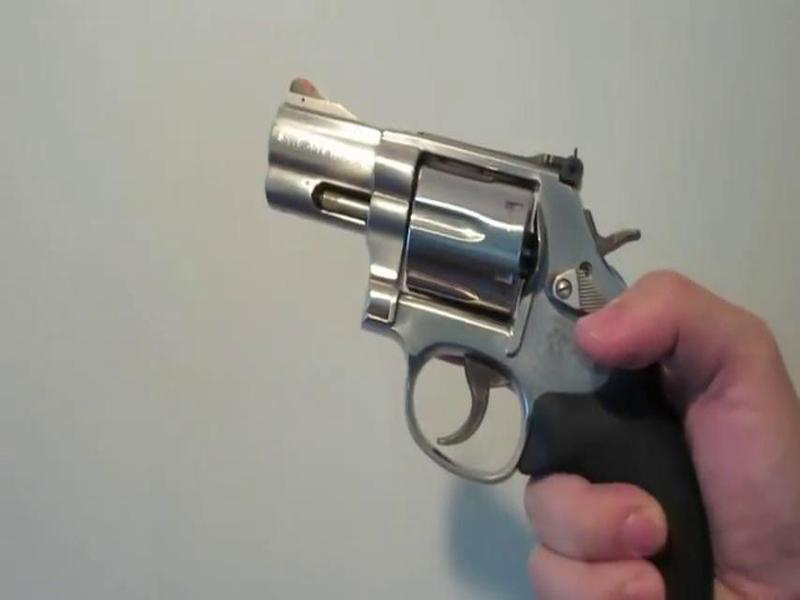Revolver: (250, 58, 723, 534)
